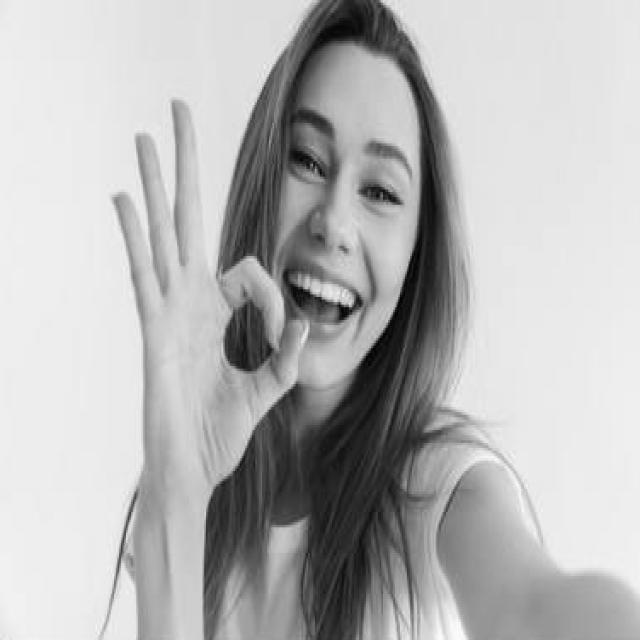perfect: (105, 89, 314, 529)
